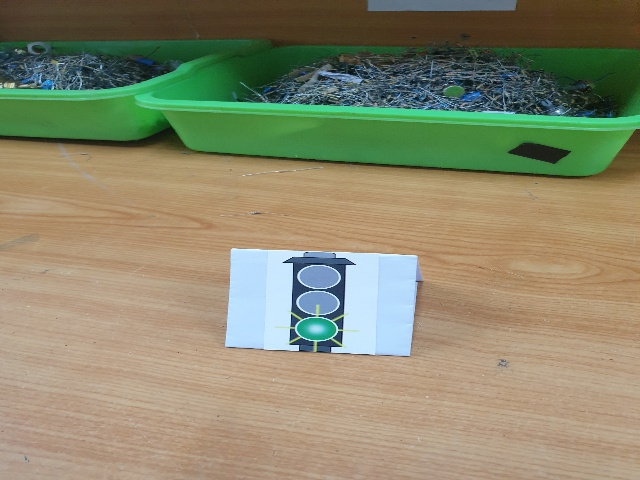Green Light: (270, 250, 365, 355)
